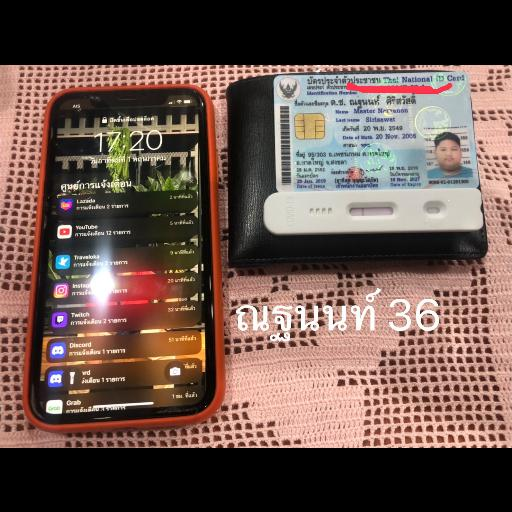Neg: (264, 189, 486, 229)
